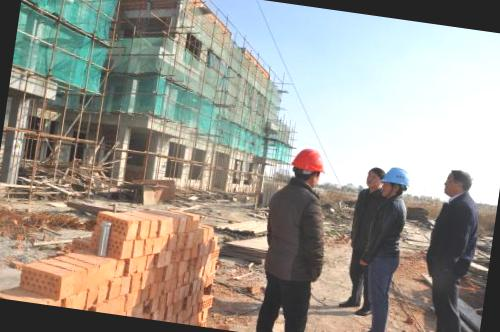no_helmet: (440, 165, 478, 201), (362, 162, 388, 193)
